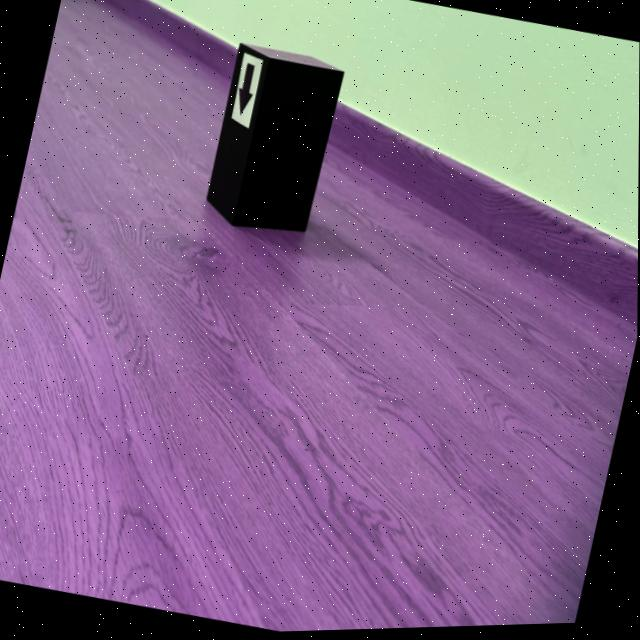DOWN: (239, 63, 255, 118)
